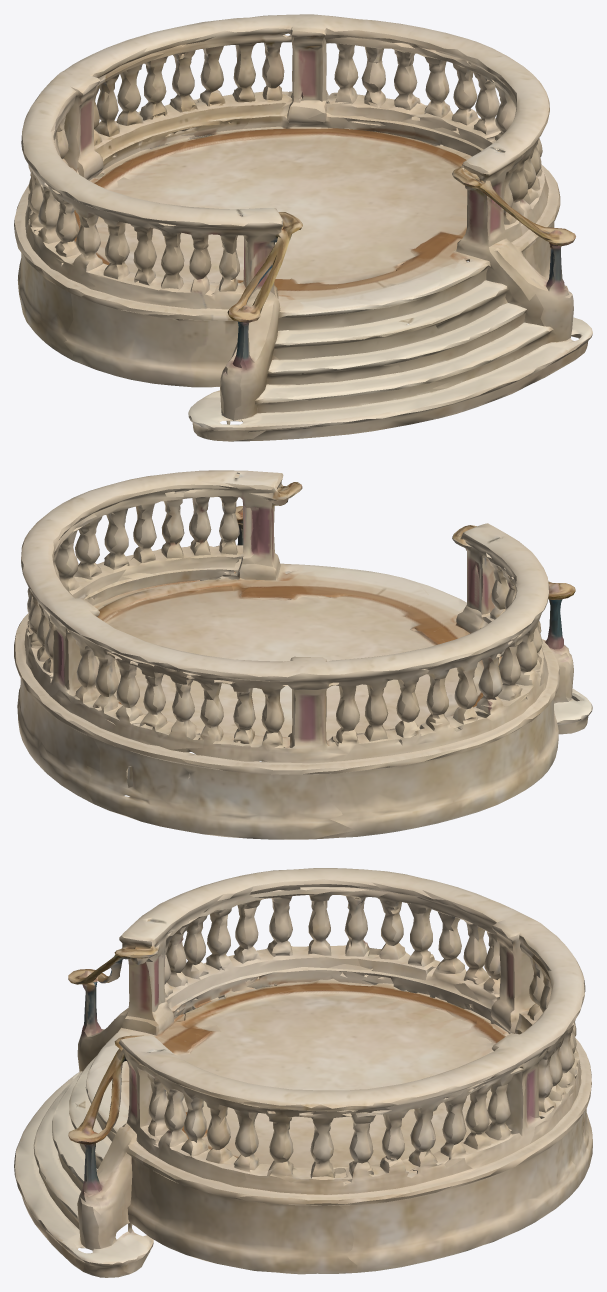
The model's file is unified--terrace.glb.
3 renders of one model, top to bottom at view 1: azimuth 30°, elevation 25°; view 2: azimuth 150°, elevation 25°; view 3: azimuth 270°, elevation 25°, orthographic. The views are drawn at different scales.
Visible parts, largest first — view 1: terrace-0; view 2: terrace-0; view 3: terrace-0.
Boxes of the visible parts, x1,y1,x2,y2 form: terrace-0: (14, 14, 592, 441); terrace-0: (14, 470, 592, 839); terrace-0: (14, 868, 592, 1277).
Size of the model in its own units: 3 by 1.14 by 3.
1 material, 1 textured.
